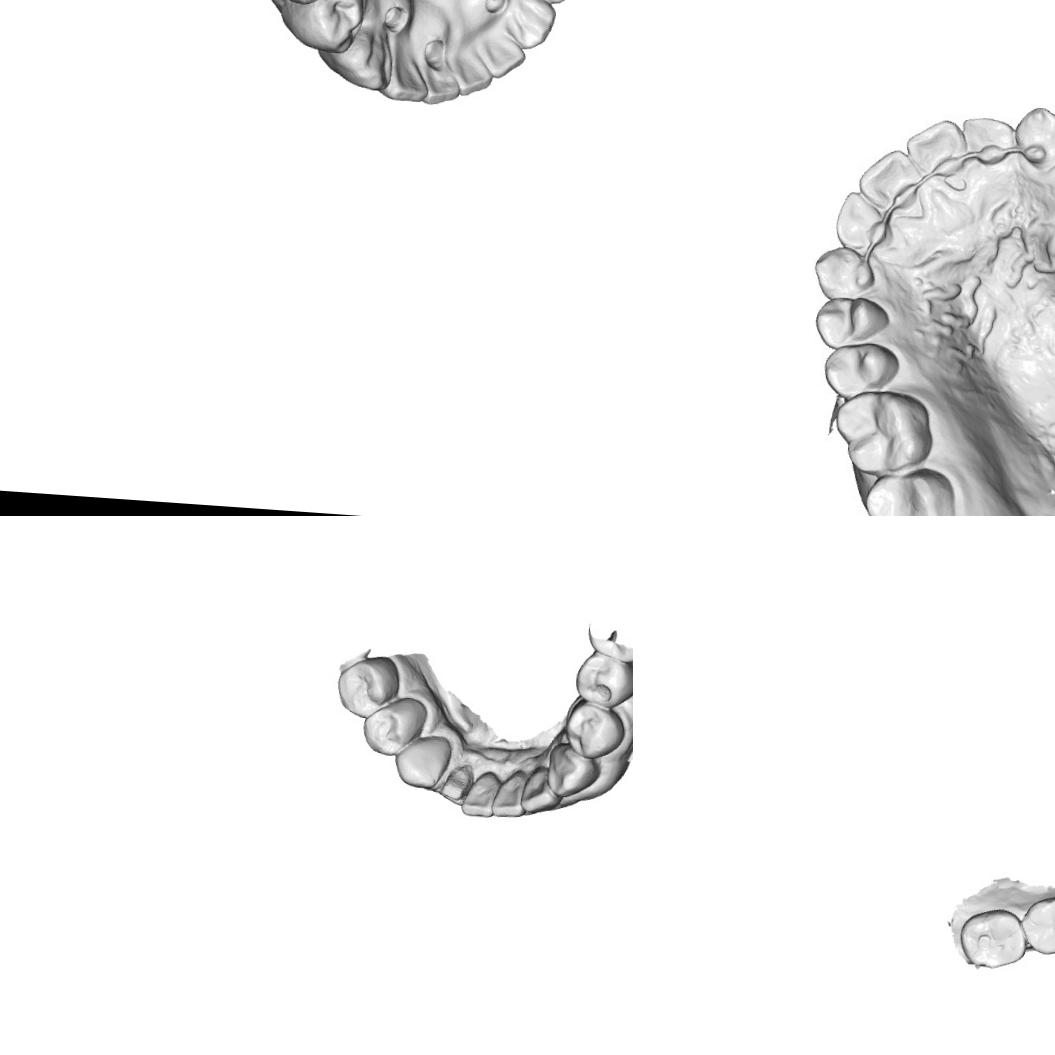canine: (329, 23, 392, 90), (811, 243, 874, 302), (391, 732, 452, 791), (546, 740, 602, 798), (499, 0, 558, 52), (1014, 105, 1055, 166)
crown: (440, 764, 473, 800)
incisor: (902, 116, 964, 179), (860, 149, 916, 205), (380, 43, 431, 104), (834, 190, 888, 246), (960, 112, 1018, 164), (518, 764, 564, 816), (474, 36, 528, 80), (453, 47, 498, 96), (420, 59, 464, 105), (490, 768, 526, 818), (460, 769, 494, 817)
molar: (830, 389, 932, 476), (859, 466, 958, 516), (956, 904, 1027, 972), (1017, 892, 1055, 957)
premolar: (334, 652, 402, 720), (822, 344, 899, 399), (562, 700, 626, 761), (816, 296, 886, 348), (573, 651, 633, 709), (296, 0, 364, 51), (360, 699, 415, 757)
